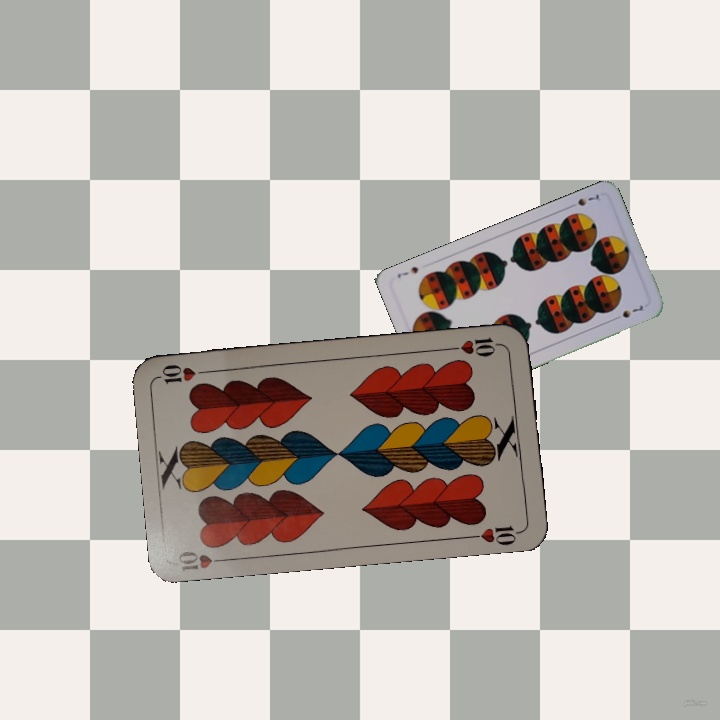H10: (174, 546, 233, 573), (446, 334, 505, 360)
S7: (564, 190, 602, 211)
